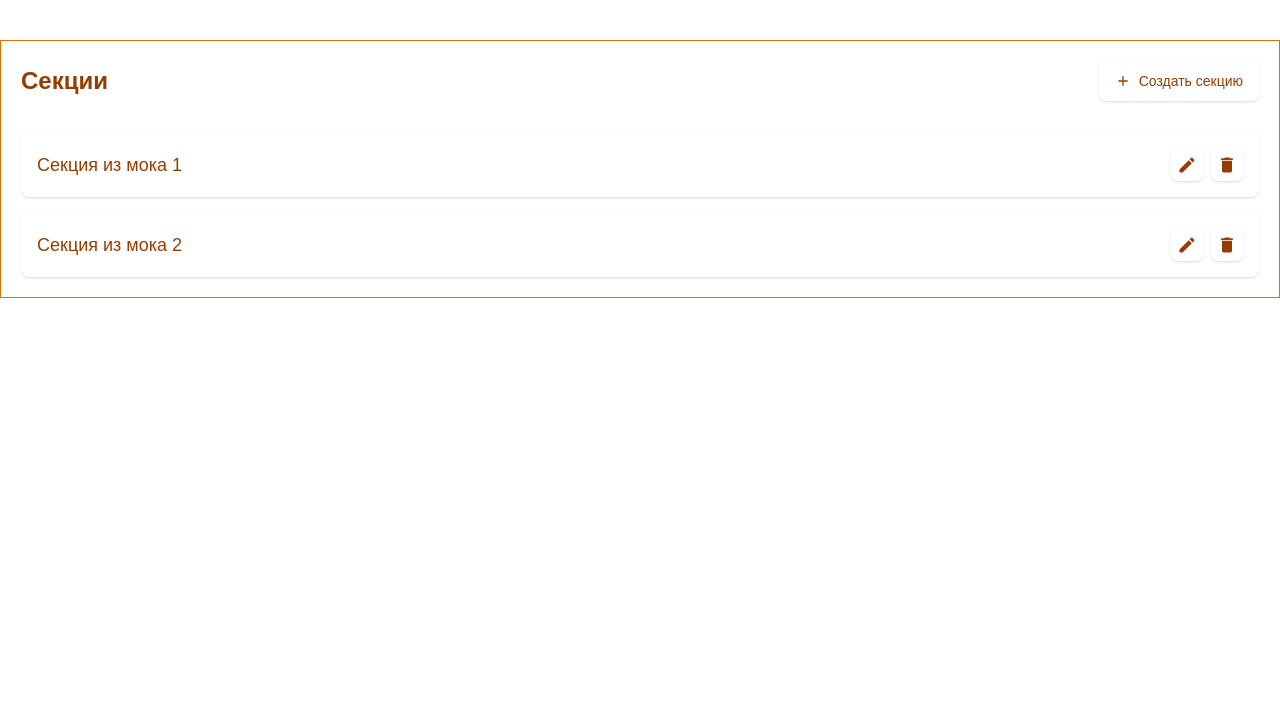
Scenario: SectionsPage › CRUD операции › должен удалять секцию
// ACT (Действие): Находим нужный элемент и нажимаем "Удалить".
Click the button named "delete" in the row of "Секция из мока 2".
click(1227, 245)  # box [1211, 229, 1243, 261]
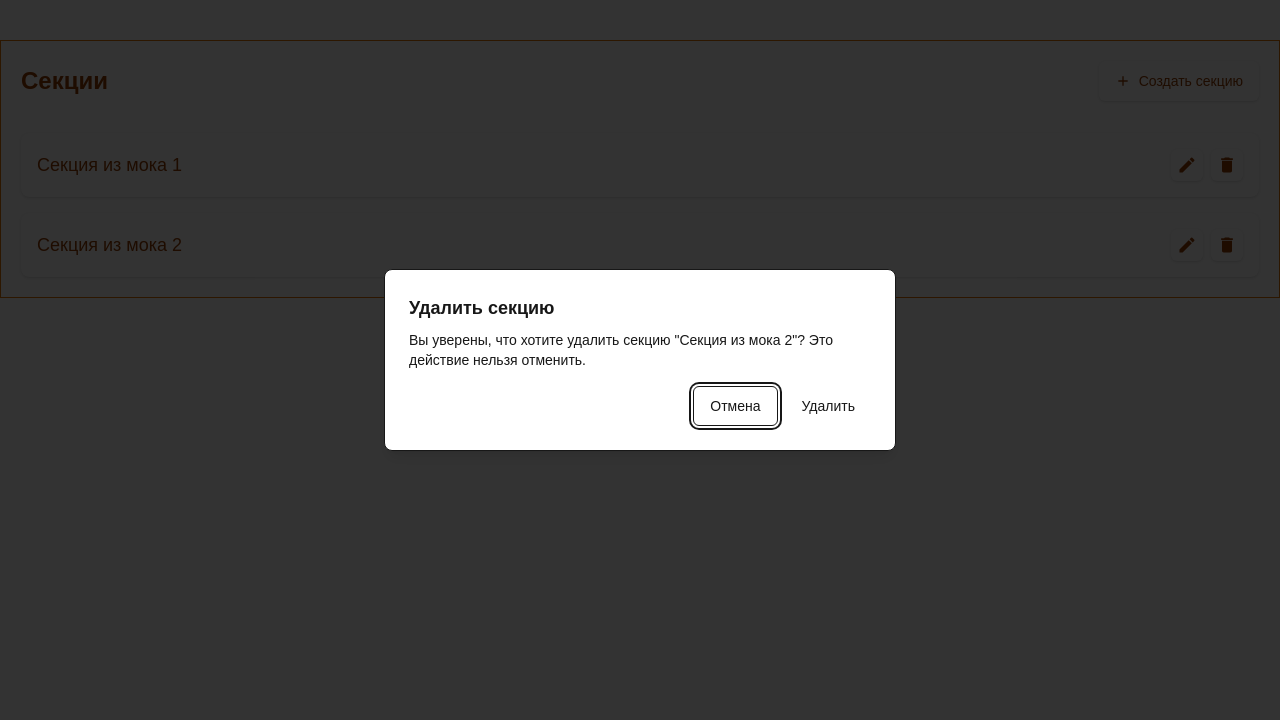
// ACT (Действие): В диалоговом окне подтверждаем удаление.
Click the button "Удалить".
click(828, 406)  # box [786, 386, 871, 426]
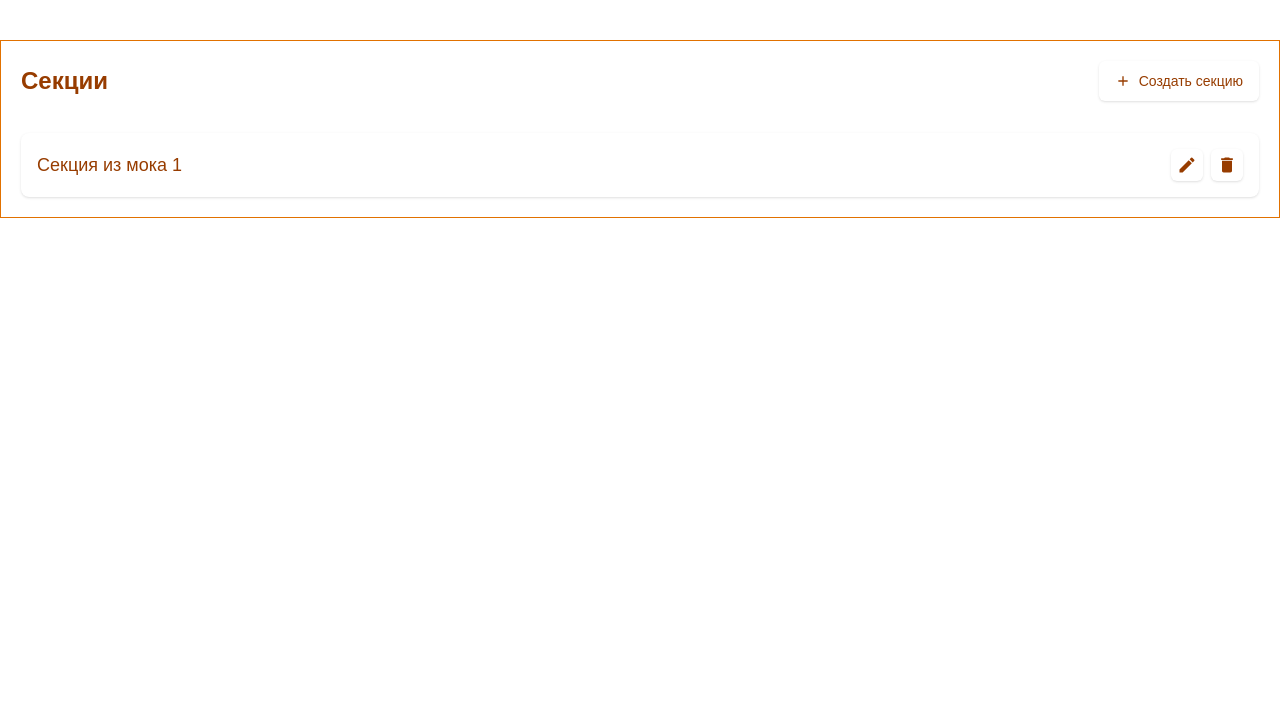
Expected: the text "Секция из мока 2" is gone
